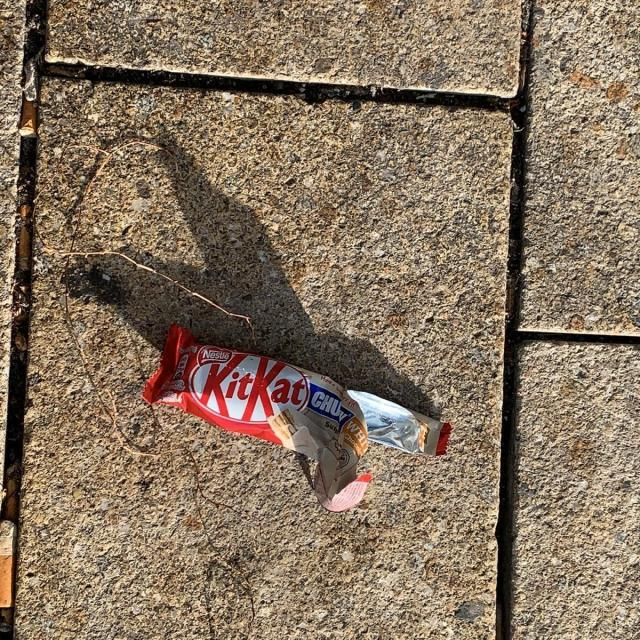Plastic: (137, 320, 456, 516)
